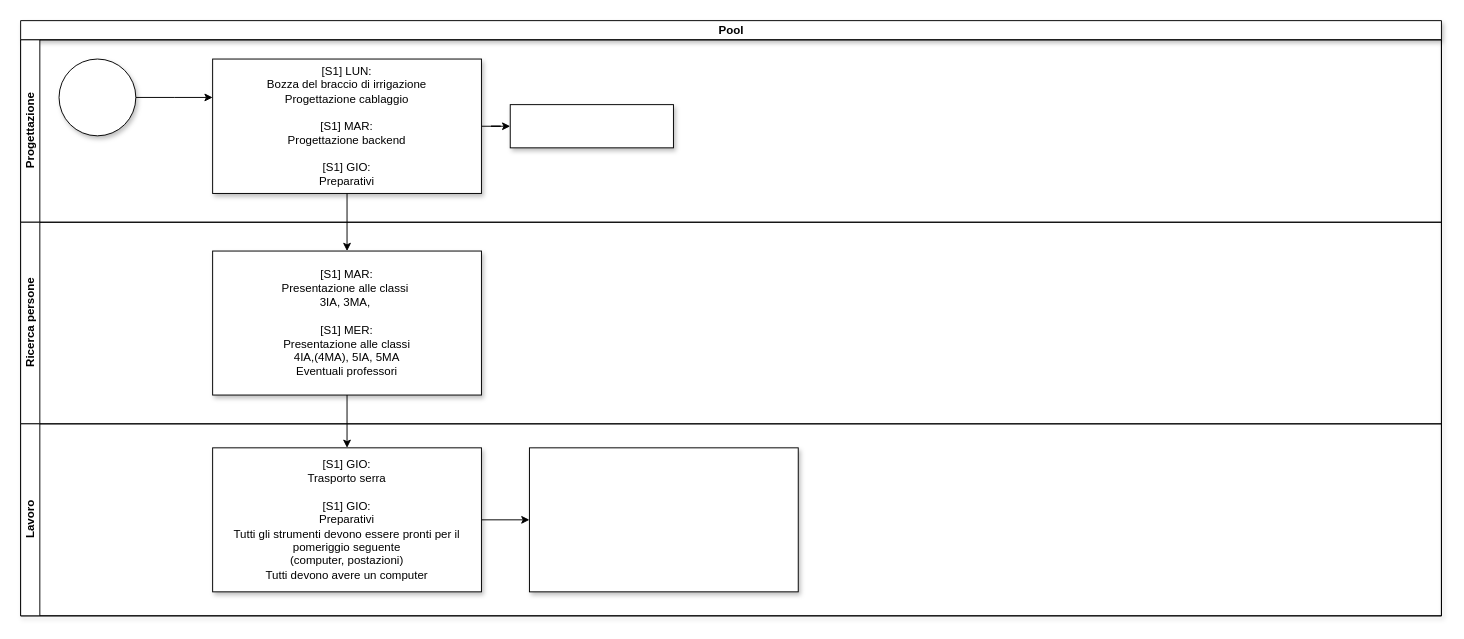
This 1464x639 diagram has some shape labels left out. The centre of each missing label's shape, as x and y in pixels:
"[S1] MAR: Confronto con il prof" belongs at [592,127].
"[S1] VEN: Presentazione degli eventuali nuovi arrivati" belongs at [664,521].
"START" belongs at [98,98].
